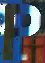Parking: (2, 2, 39, 62)
